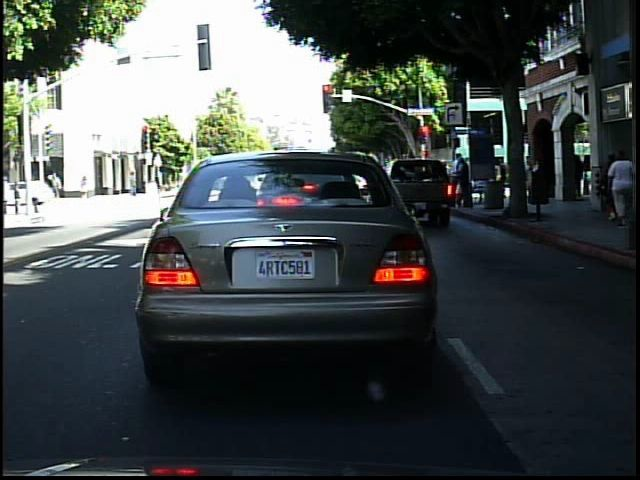person: (610, 145, 639, 230), (601, 146, 624, 225), (496, 154, 511, 204), (46, 167, 66, 204), (30, 172, 43, 216), (10, 178, 25, 215), (77, 171, 93, 204), (127, 167, 142, 198)
